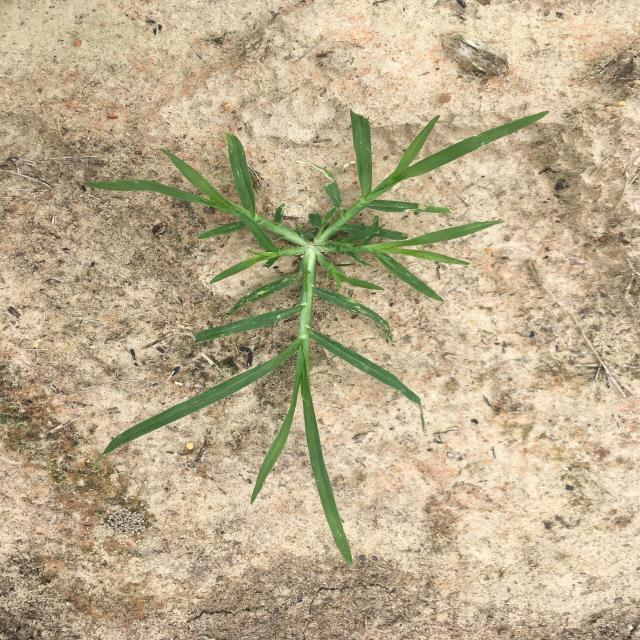Goosegrass: (83, 109, 550, 565)
